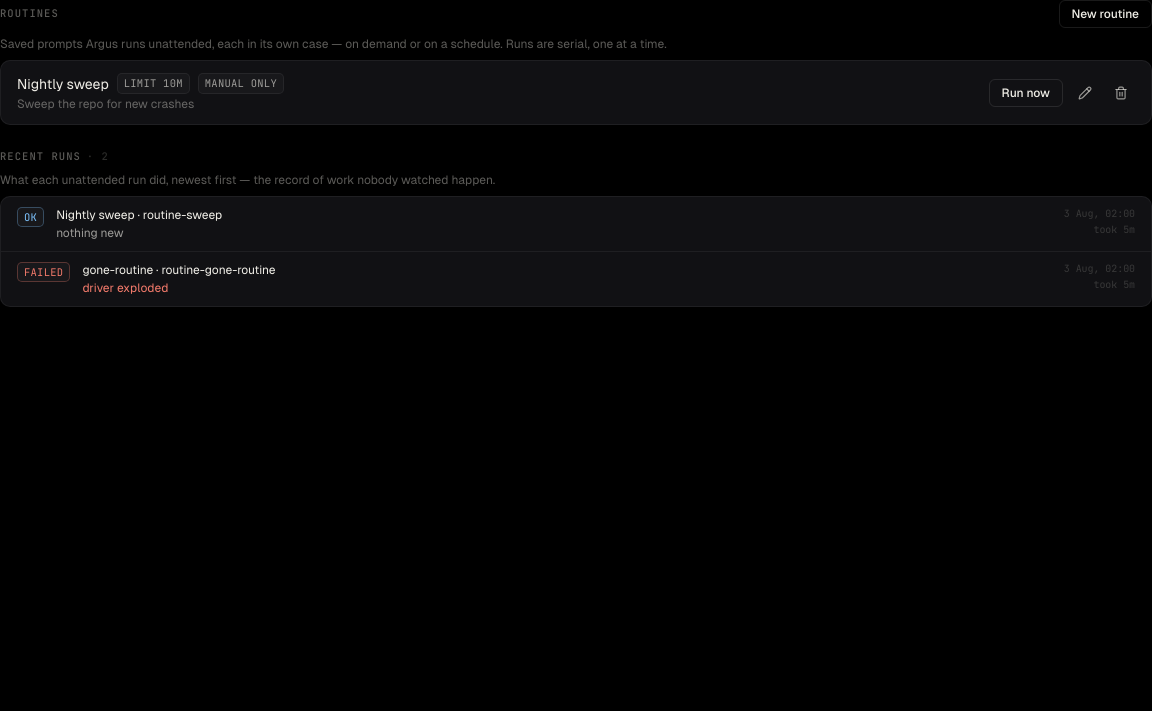
Scenario: RoutinesPage — schedule editor › round-trips an existing schedule into the editor
Expected: the text "Nightly sweep" is shown, [17,76,109,92]
Click the button named "edit · Nightly sweep". click: (1085, 92)
box: [1071,78,1099,106]
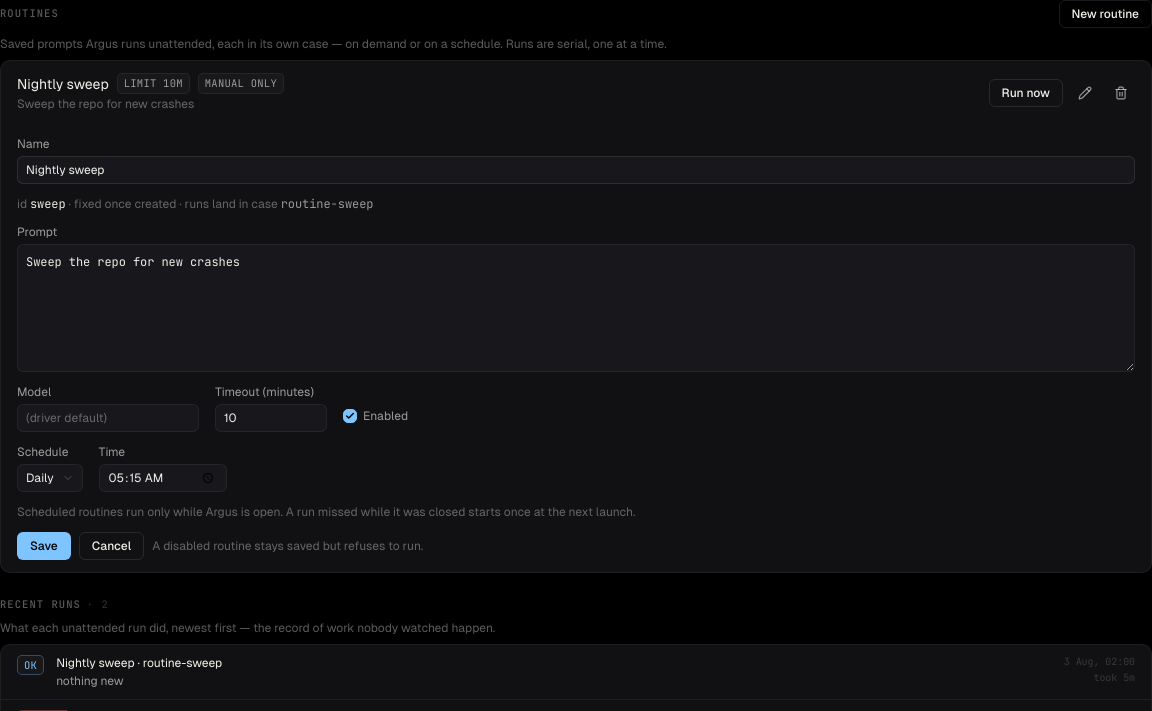
Expected: the dropdown named "Schedule" reads "Daily", [17,464,82,492]
Expected: the time field labelled "Time" holds "05:15", [98,464,226,492]
